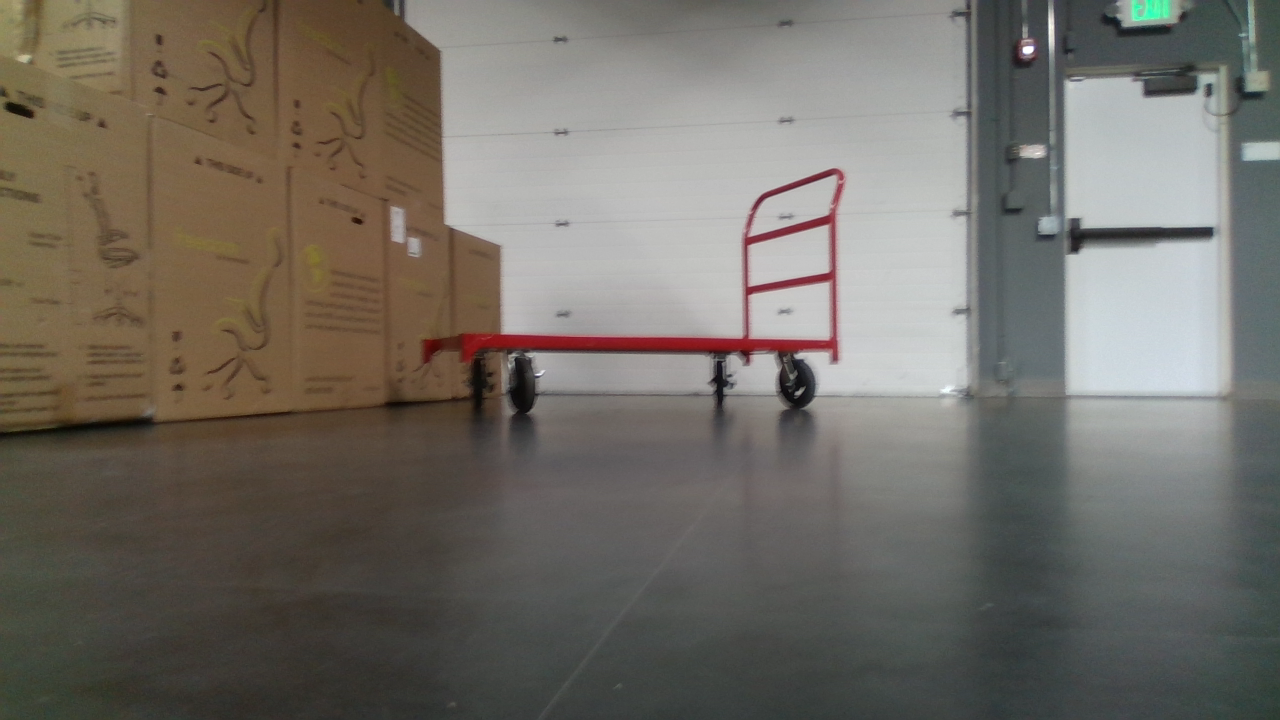Dolly: (419, 166, 846, 418)
Wheel: (773, 358, 822, 409), (505, 354, 542, 415), (707, 351, 736, 408), (466, 350, 494, 407)
